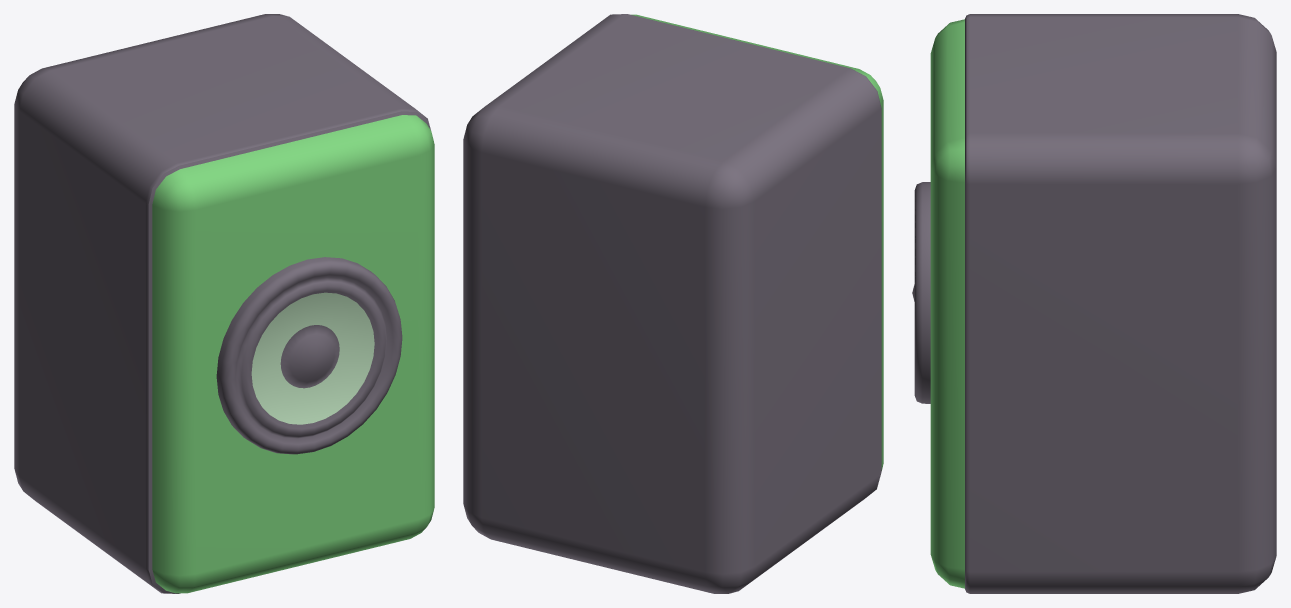
Rendered from Speaker_01.fbx.
3 views of the same model, side by side, from view 1: azimuth 30°, elevation 25°; view 2: azimuth 150°, elevation 25°; view 3: azimuth 270°, elevation 25° (orthographic). The views are drawn at different scales.
Parts seen in each view (by area): view 1: Speaker_01; view 2: Speaker_01; view 3: Speaker_01.
Boxes of the visible parts, x1=… form: Speaker_01: x1=14, y1=14, x2=434, y2=593; Speaker_01: x1=463, y1=14, x2=883, y2=593; Speaker_01: x1=912, y1=14, x2=1276, y2=593.
Bounding box in the file's own units: 47.82 × 68.72 × 49.64.
1 material, 1 textured.
